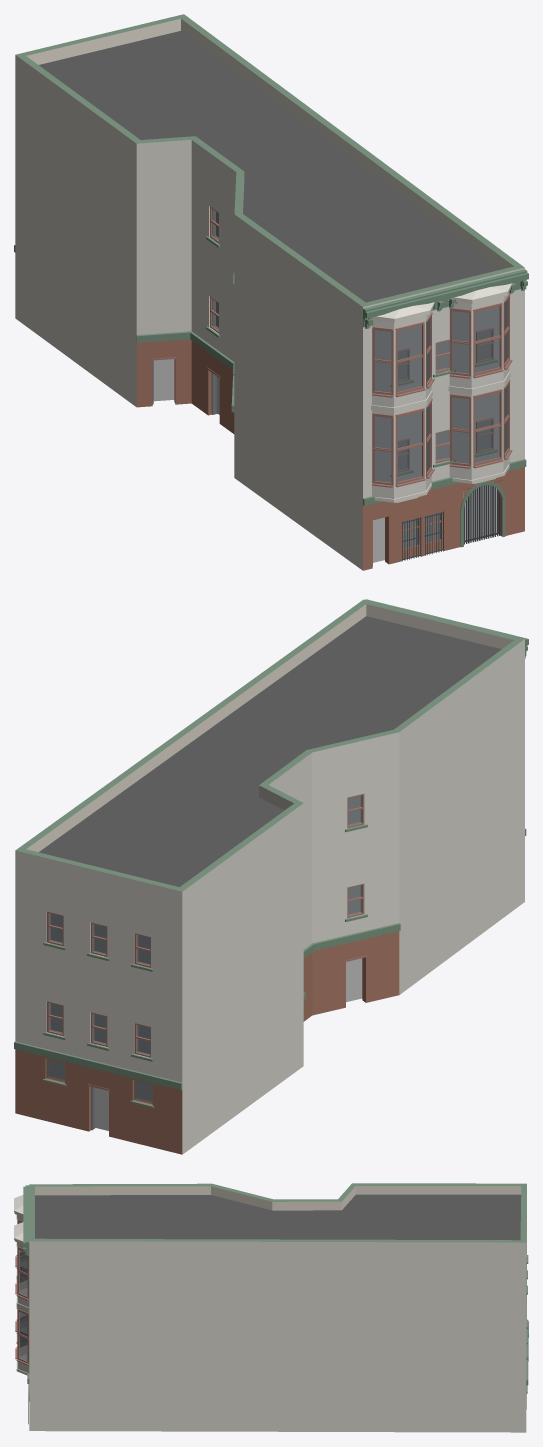
The model's file is exterior.glb.
The picture shows the model from 3 angles, top to bottom: view 1: azimuth 30°, elevation 25°; view 2: azimuth 150°, elevation 25°; view 3: azimuth 270°, elevation 25°; orthographic projection. The views are drawn at different scales.
Parts seen in each view (by area): view 1: shell, roof, bay-glazing-hyb, shadow-proxy, bay-windows-hyb, trim, storefront, glazing, frames, hyC-arches-7; view 2: shell, roof, shadow-proxy, glazing, trim, frames; view 3: shell, roof, bay-glazing-hyb, bay-windows-hyb, trim.
Part boxes in pixels (x1,y1,x2,y2): shell: (15,14,524,570); roof: (39,31,501,302); bay-glazing-hyb: (372,293,512,487); shadow-proxy: (153,212,499,562); bay-windows-hyb: (371,283,512,502); trim: (14,236,528,505); storefront: (151,357,500,566); glazing: (212,209,491,548); frames: (210,207,493,472); hyC-arches-7: (460,481,505,547); shell: (15,599,524,1154); roof: (39,616,501,886); shadow-proxy: (49,796,362,1130); glazing: (46,795,361,1103); trim: (14,599,528,1108); frames: (47,794,363,1057); shell: (29,1183,526,1432); roof: (35,1194,521,1240); bay-glazing-hyb: (15,1215,28,1365); bay-windows-hyb: (14,1195,29,1375); trim: (23,1185,528,1393).
Bounding box in the file's own units: 8.48 × 12.62 × 31.01.
